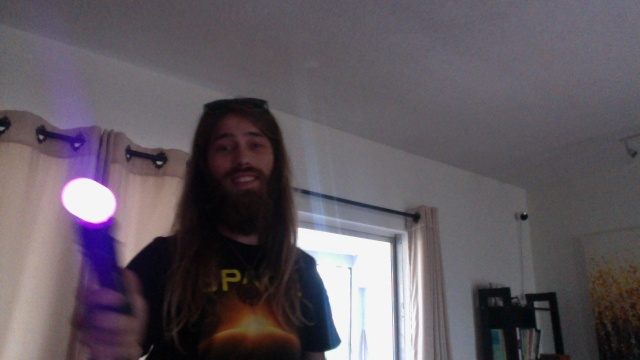wand: (62, 179, 118, 223)
